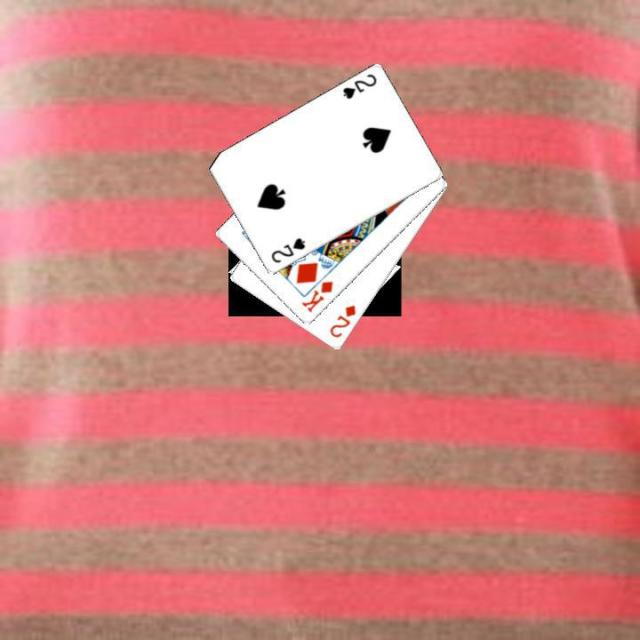2D: (326, 302, 358, 339)
2S: (338, 70, 378, 102), (266, 234, 306, 265)
KD: (298, 277, 335, 315)
